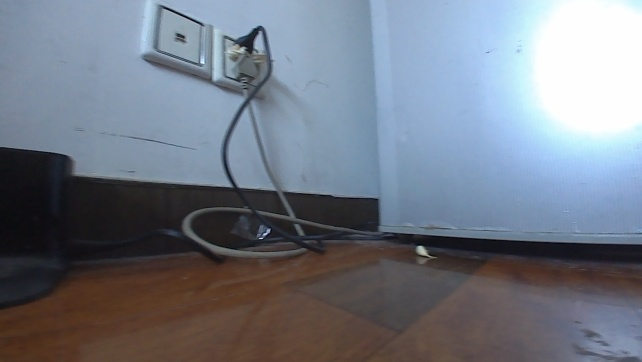wire: (65, 22, 399, 264), (177, 52, 383, 260)
